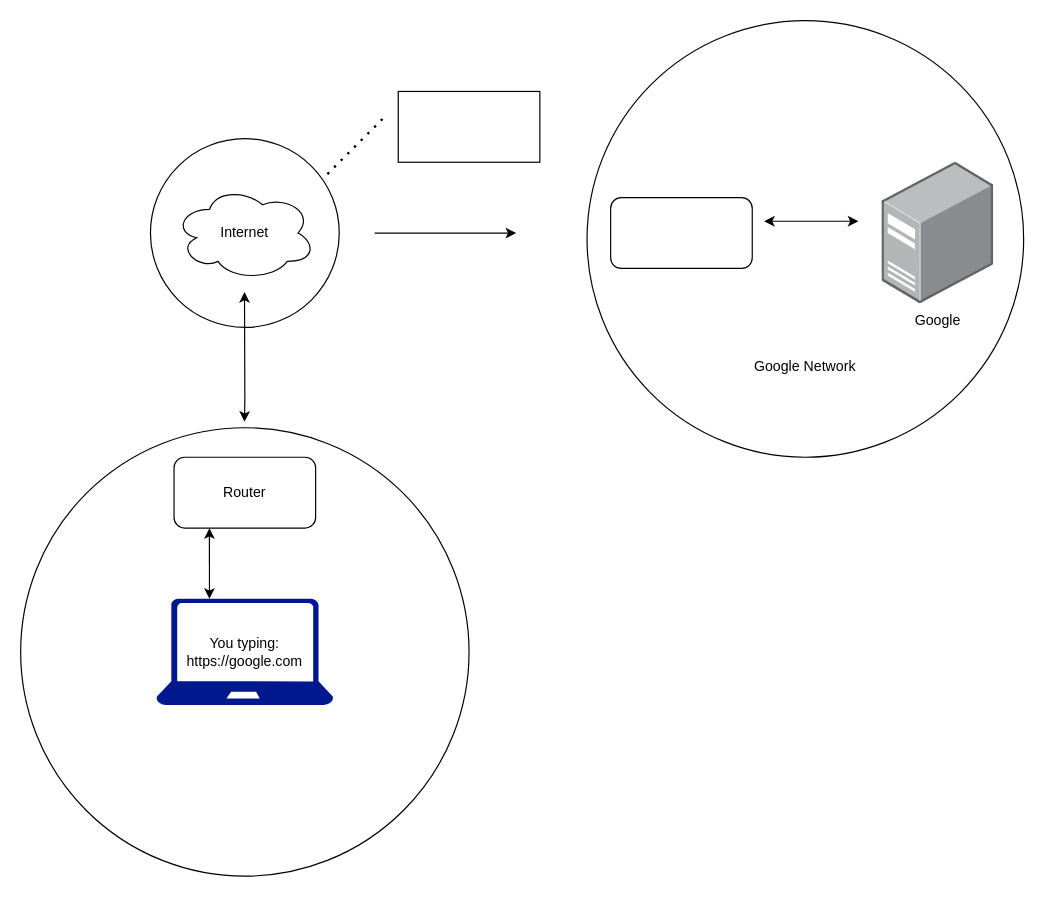
Some shapes in this 1044 by 897 pixel diagram are drawn without their labels. Here are the shapes that lost their labels. From the top down, the centre of each, then its label:
At pixel 468 126: "The external collection of networks".
At pixel 680 232: "Google's Router".
At pixel 244 651: "Your laptop".
